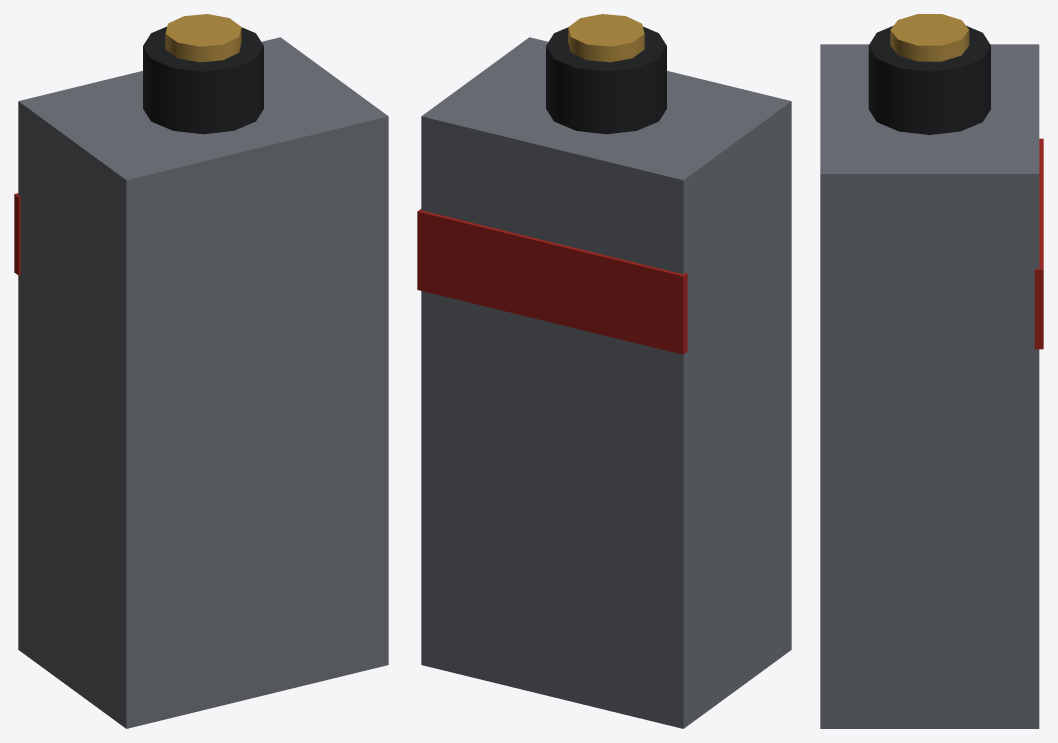
File: lance-capacitor.glb
The picture shows the model from 3 angles, left to right: view 1: azimuth 30°, elevation 25°; view 2: azimuth 150°, elevation 25°; view 3: azimuth 270°, elevation 25°; orthographic projection.
Visible parts, largest first — view 1: lance-capacitor; view 2: lance-capacitor; view 3: lance-capacitor.
Part boxes in pixels (x1,y1,x2,y2): lance-capacitor: (14, 14, 388, 728); lance-capacitor: (417, 14, 791, 728); lance-capacitor: (820, 14, 1043, 728).
Bounding box in the file's own units: 0.071 × 0.16 × 0.051.
1 material, 1 textured.
